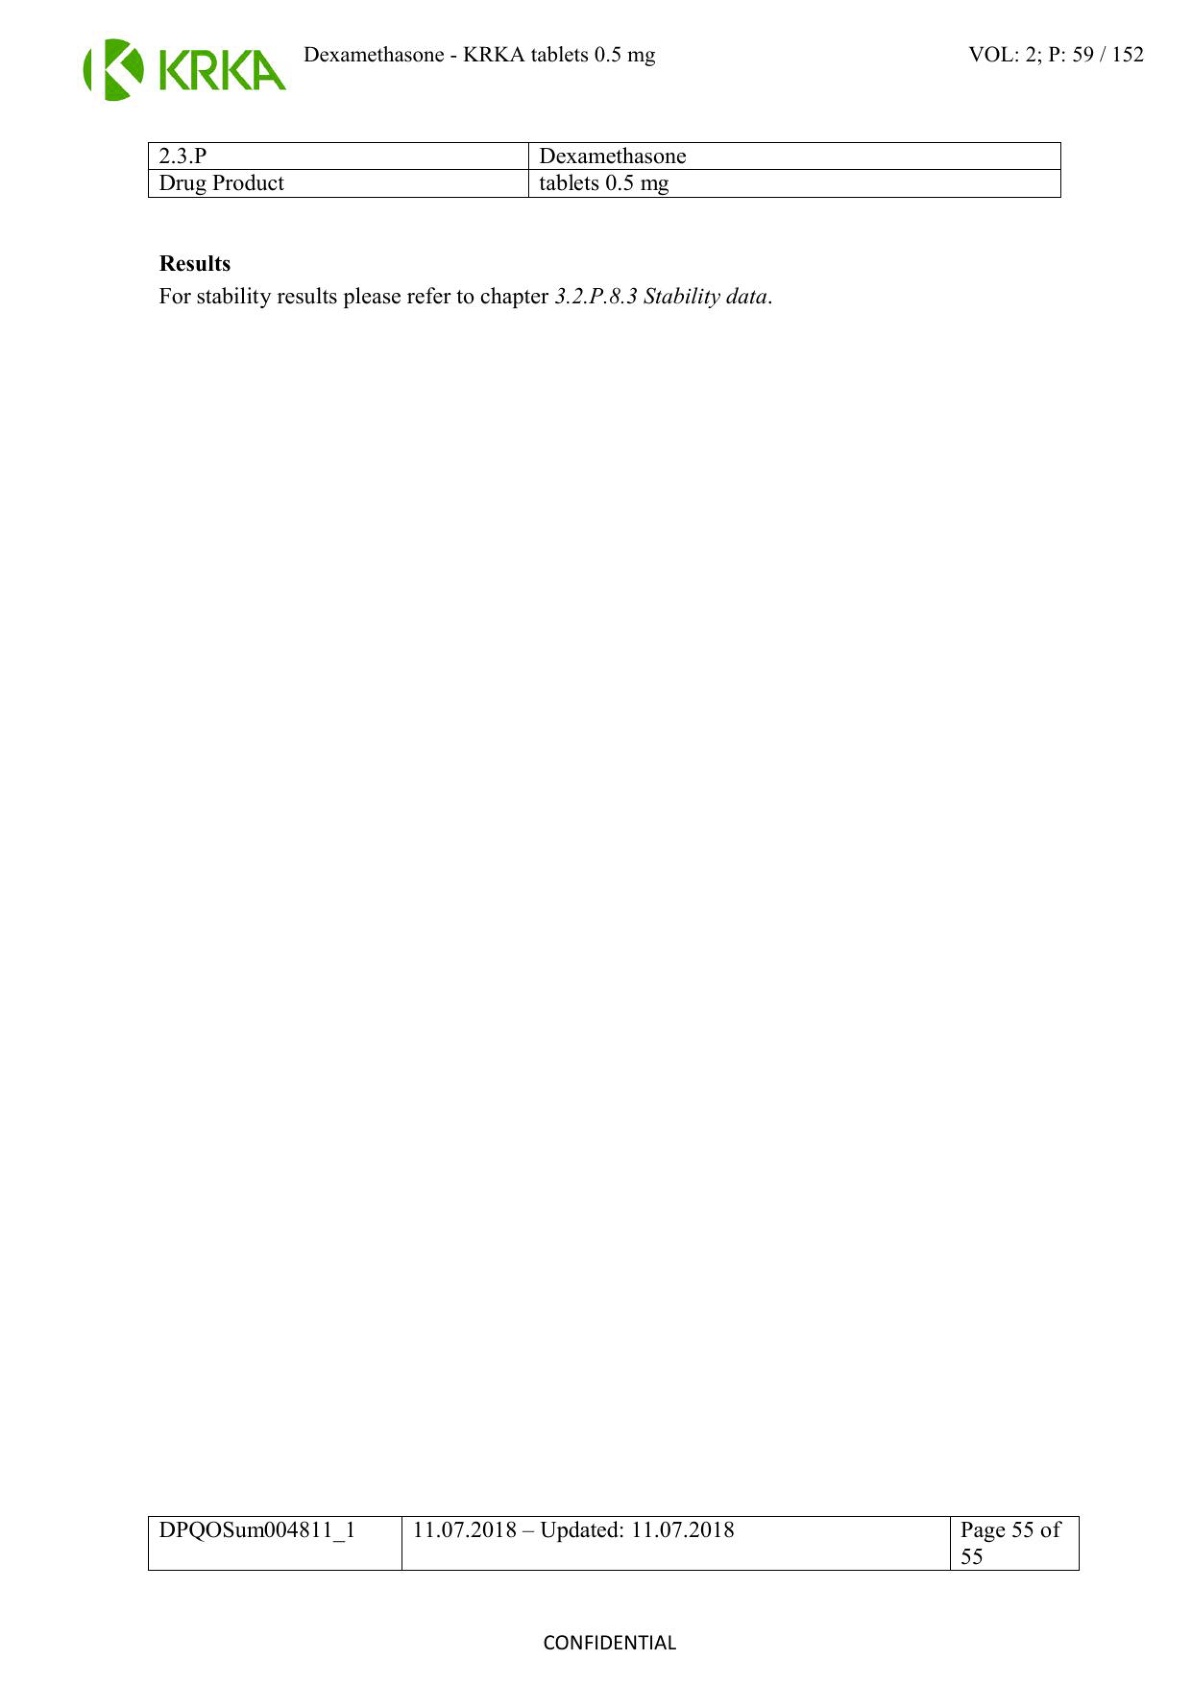full_lined: (147, 141, 1062, 199), (147, 1515, 1081, 1571)
